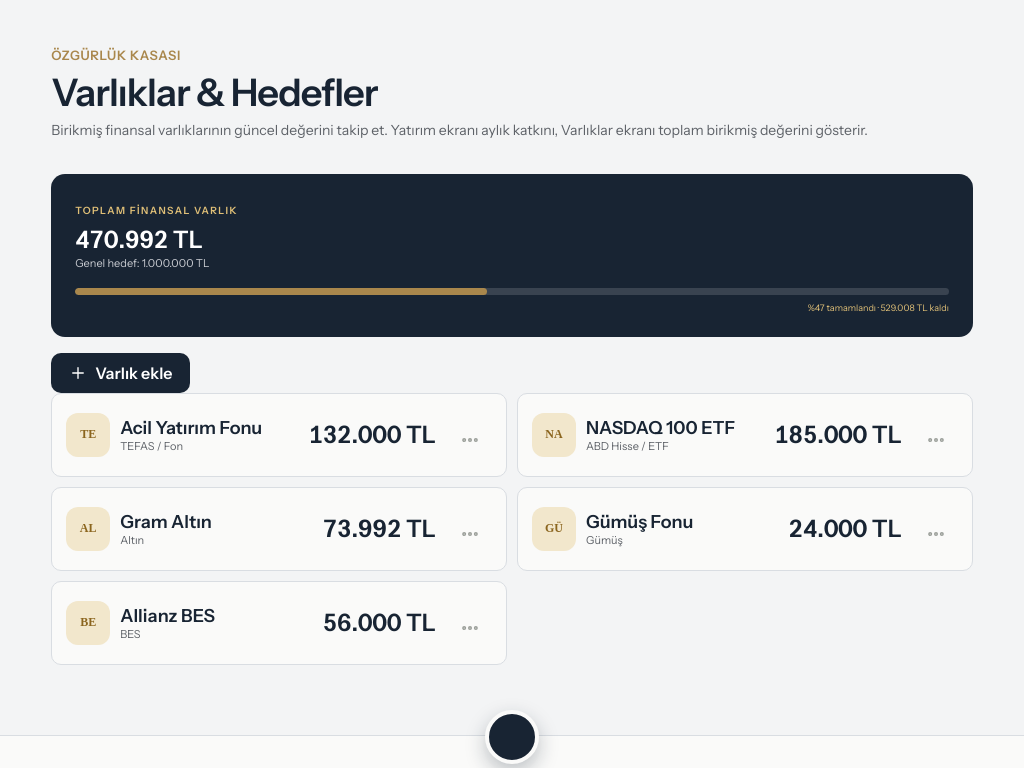
it: UX polish pack › asset form has Miktar, Birim, Birim Fiyat, Güncel Değer fields
Click the button "Varlık ekle": coordinates (121, 373) x1=51 y1=353 x2=190 y2=393
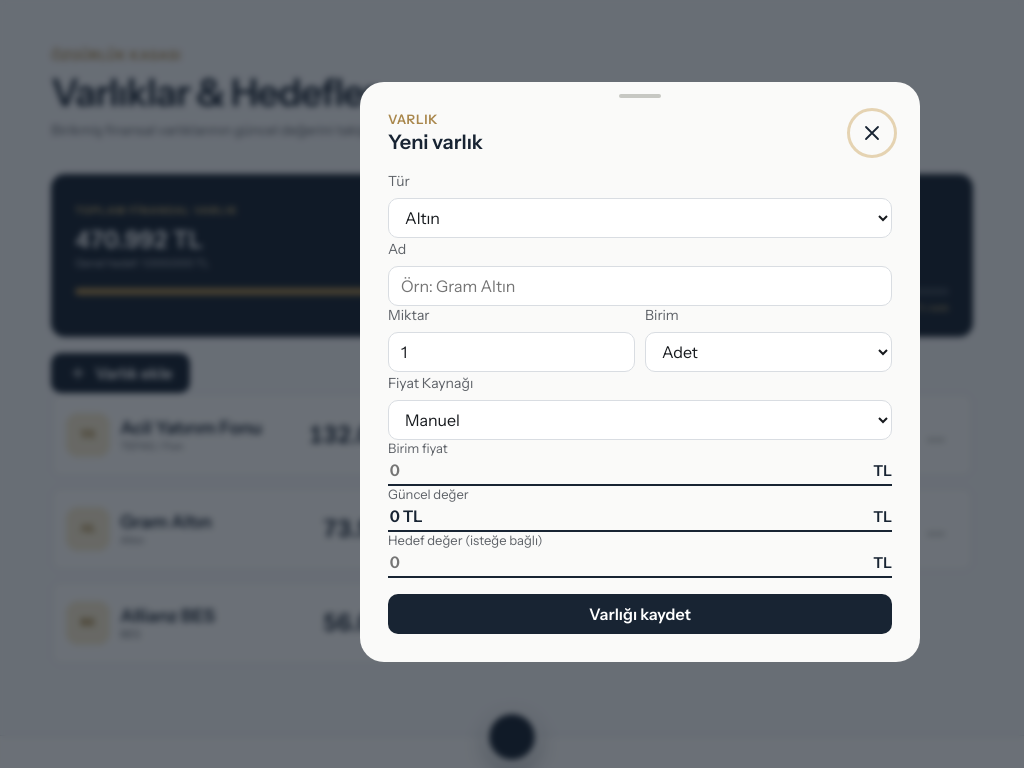
Expected: the text "Miktar" is shown, x1=388 y1=306 x2=635 y2=372
Expected: the text "Birim" is shown, x1=645 y1=306 x2=892 y2=372
Expected: the text "Birim fiyat" is shown, x1=388 y1=440 x2=448 y2=456
